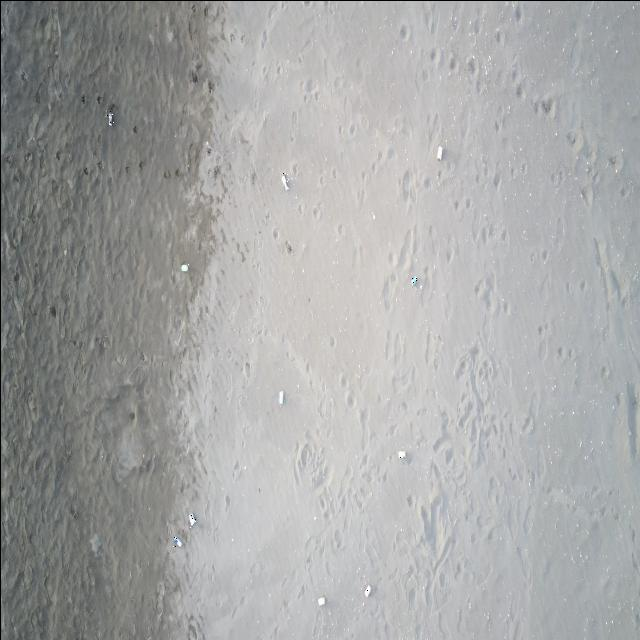Garbage: (105, 105, 114, 124), (172, 535, 183, 547), (280, 172, 287, 190), (188, 512, 196, 527), (436, 145, 442, 160), (397, 449, 406, 459), (108, 111, 114, 125), (364, 584, 371, 596), (318, 595, 324, 606), (278, 391, 283, 404), (180, 263, 187, 271), (412, 276, 416, 286)
